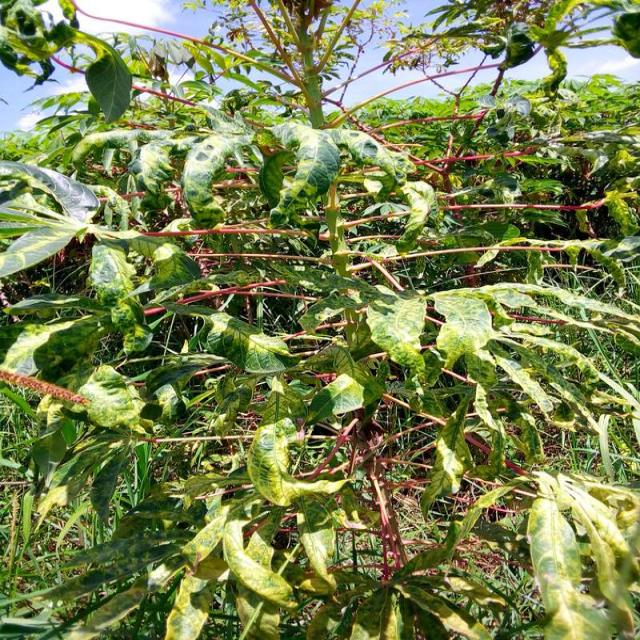cassava leaf: (2, 3, 640, 638), (247, 417, 351, 508)
